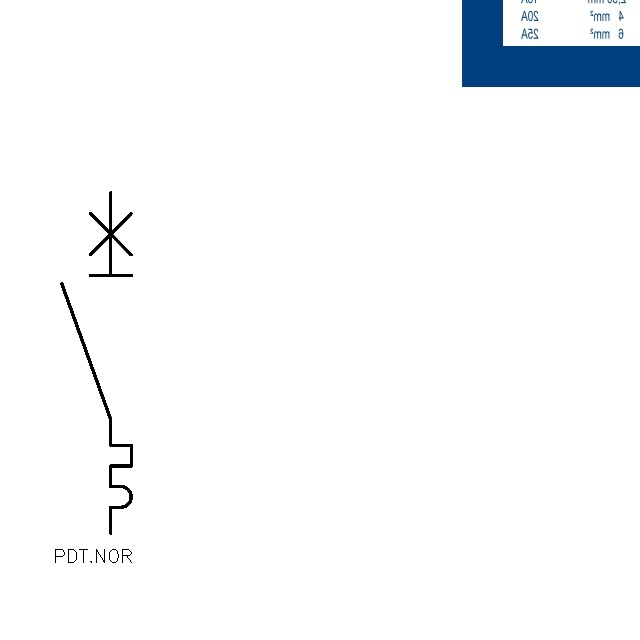interruptor_termomagnetico: (53, 184, 140, 542)
